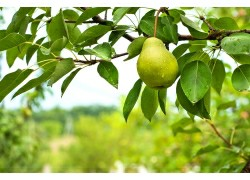pear: (137, 36, 179, 88)
